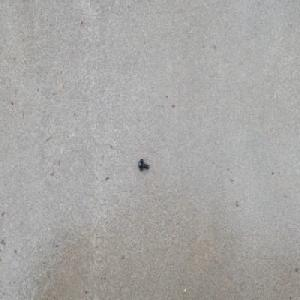BoltWasher: (137, 157, 149, 171)
